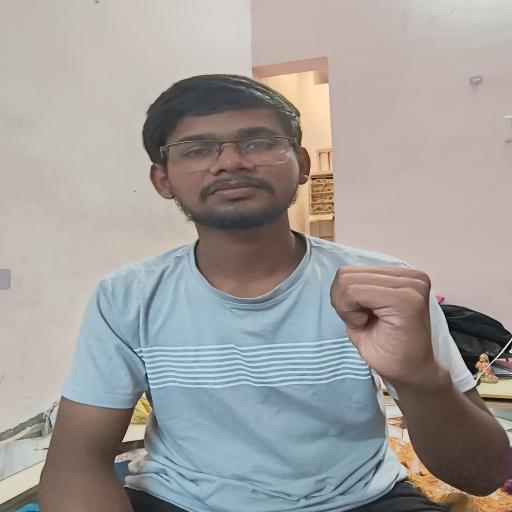wait: (318, 252, 472, 394)
